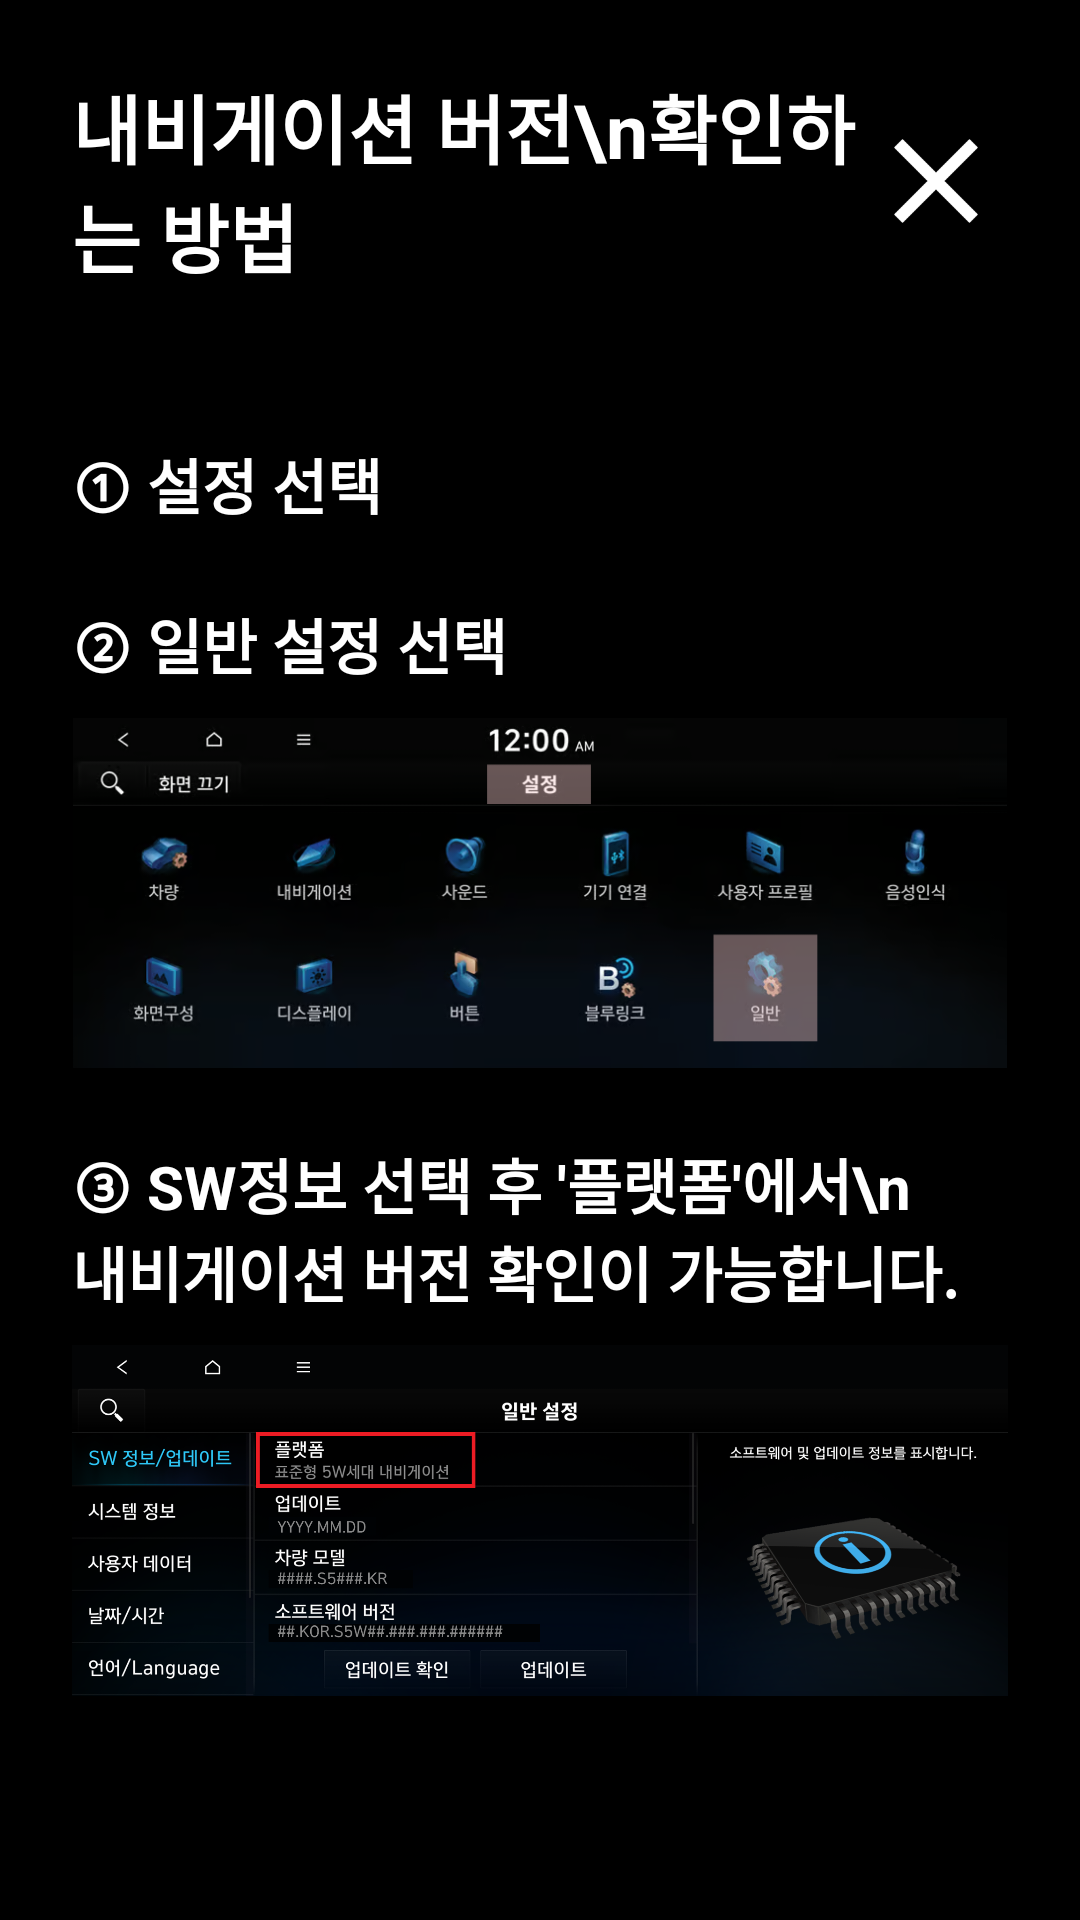

Point at icon controls on the screen. Image size 1080×1920, points as (x,y).
팝업 닫기: (936,181)
